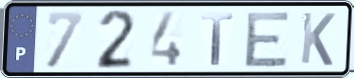2: (95, 8, 137, 71)
4: (149, 9, 183, 70)
7: (45, 9, 86, 70)
E: (242, 9, 293, 69)
K: (298, 10, 338, 68)
T: (200, 12, 236, 67)
